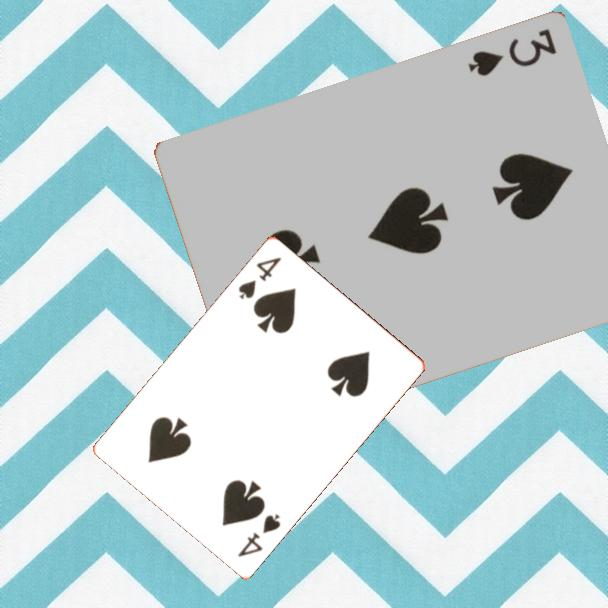s03: (464, 26, 560, 80)
s04: (234, 509, 283, 559), (235, 253, 284, 302)
